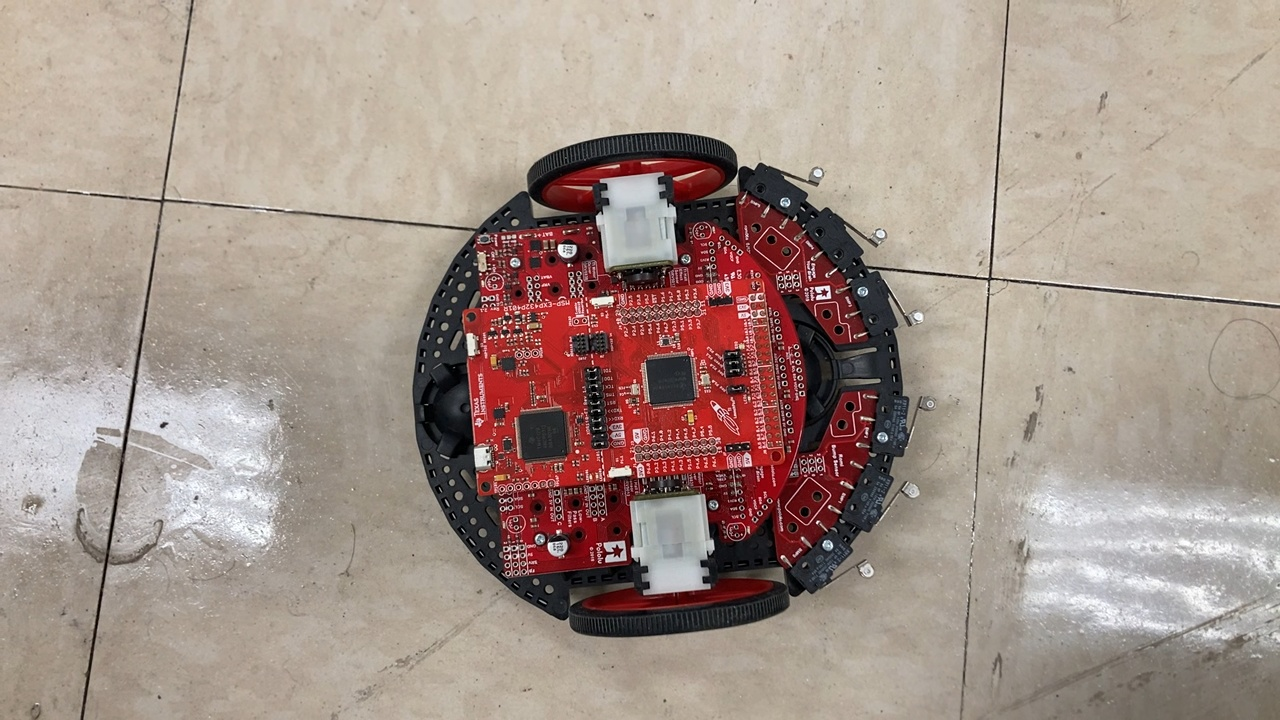robot: (401, 128, 939, 645)
